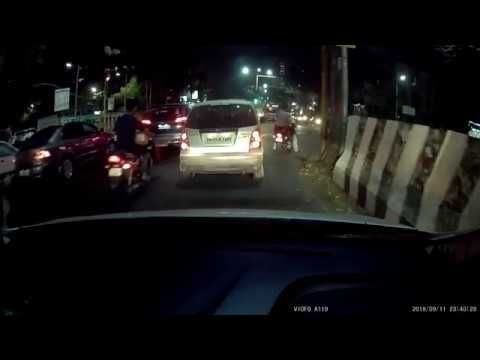bike: (107, 118, 147, 195), (273, 104, 298, 154)
car: (180, 102, 264, 185), (17, 122, 109, 181), (143, 106, 188, 149)
